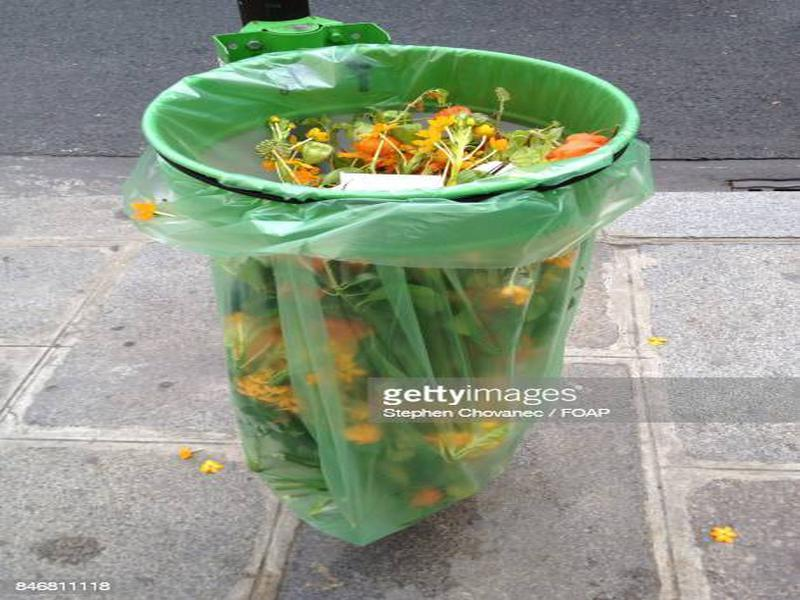flowers: (252, 97, 586, 167)
